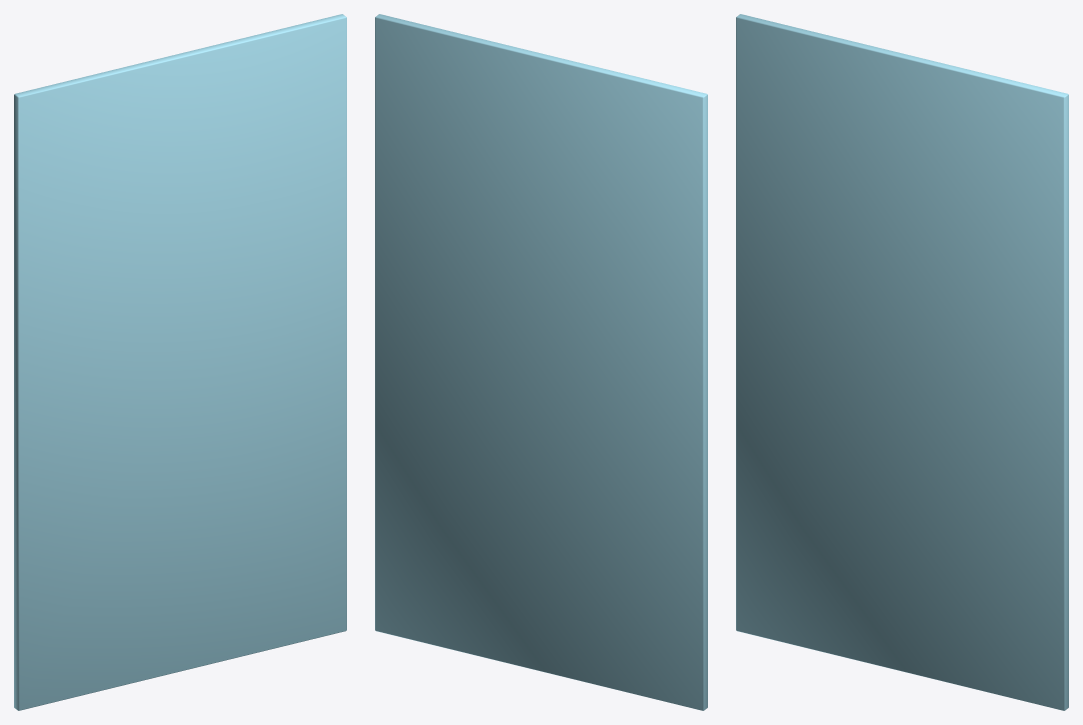
File: thin-sheet.gltf
The picture shows the model from 3 angles, left to right: view 1: azimuth 30°, elevation 25°; view 2: azimuth 150°, elevation 25°; view 3: azimuth 330°, elevation 25°; orthographic projection.
Parts seen in each view (by area): view 1: thin-sheet; view 2: thin-sheet; view 3: thin-sheet.
Boxes of the visible parts, bbox=[...] form: thin-sheet: bbox=[14, 14, 346, 710]; thin-sheet: bbox=[375, 14, 707, 710]; thin-sheet: bbox=[736, 14, 1068, 710].
Size of the model in its own units: 1.02 by 1.82 by 0.026.
